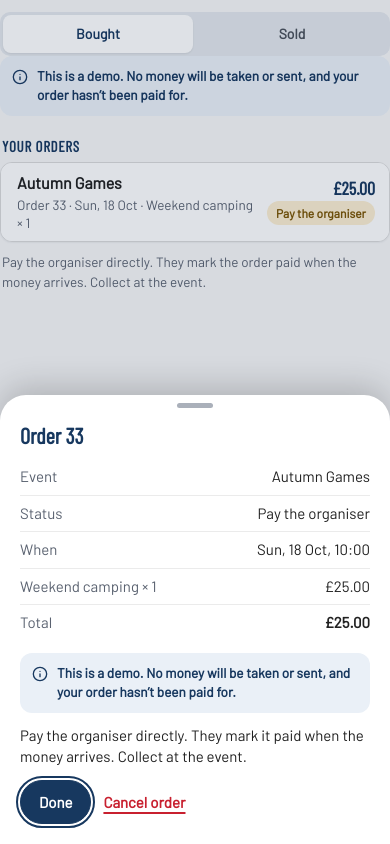
Test case: Orders and sales: an order in a sheet › says so when it cannot cancel
The width and height of the screenshot is (390, 844).
Expected: the dialog is shown, [0, 395, 389, 843]
Click the button "Cancel order" at (144, 802), box [99, 780, 190, 824]
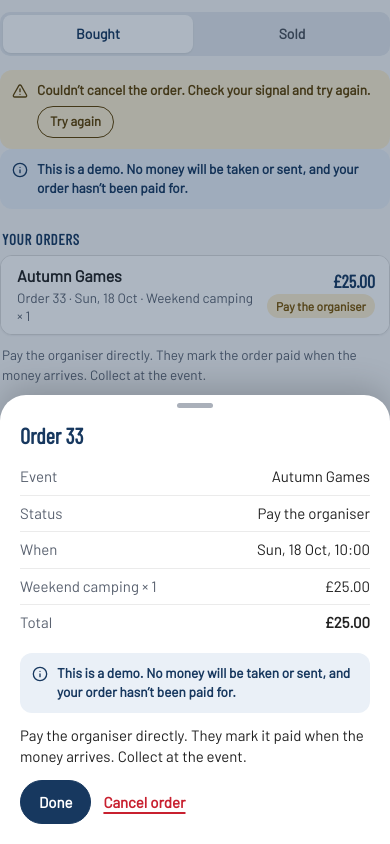
Result: the message shows "Couldn’t cancel the order. Check your signal and try again." at [37, 81, 370, 98]
